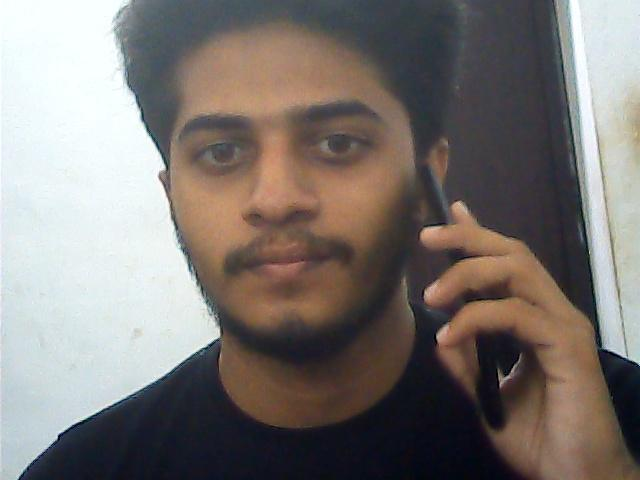PhoneUse: (409, 172, 527, 432)
SafeDriving: (294, 113, 382, 168), (181, 122, 264, 178)
